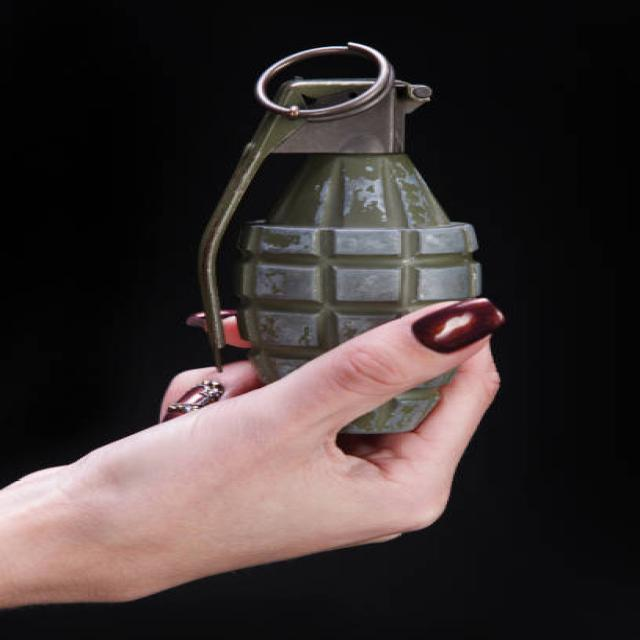grenade: (192, 43, 504, 444)
